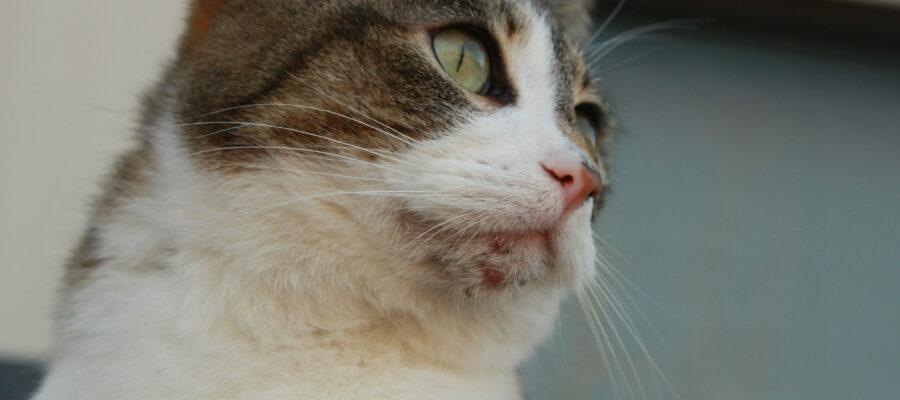acne: (431, 237, 542, 302)
